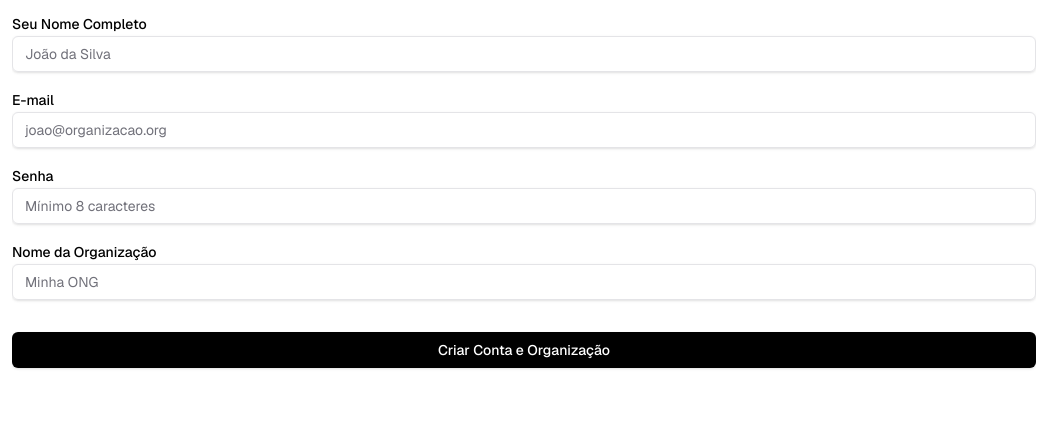
Test: SignUpForm › validates empty required fields
Click the button "Criar Conta e Organização" at (524, 350), box [12,332,1036,368]
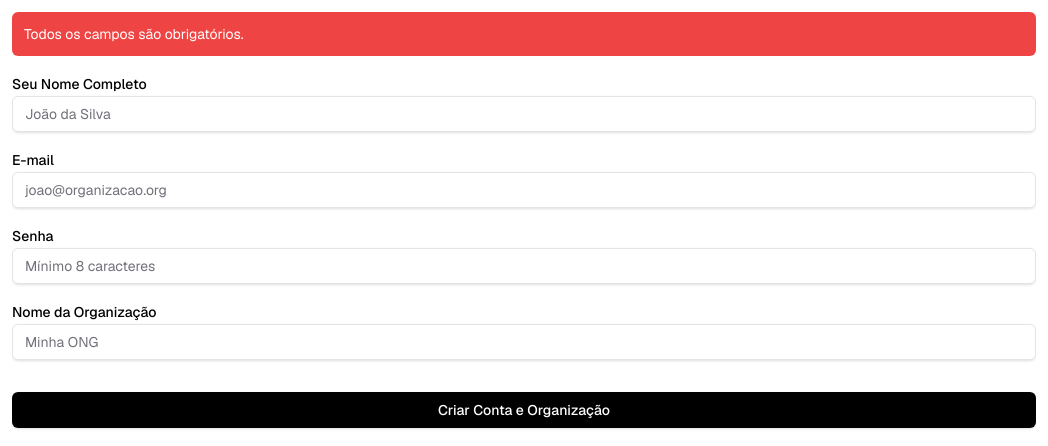
Expected: the text "Todos os campos são obrigatórios." is shown, [12,12,1036,56]
